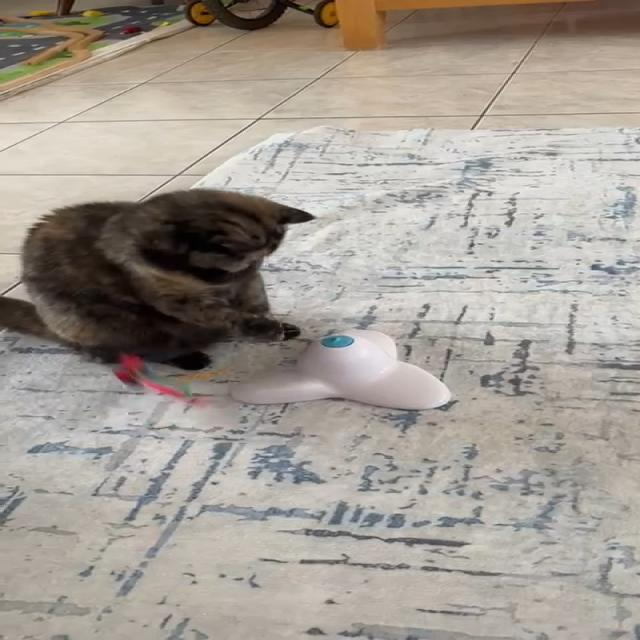authorized: (0, 187, 315, 370)
